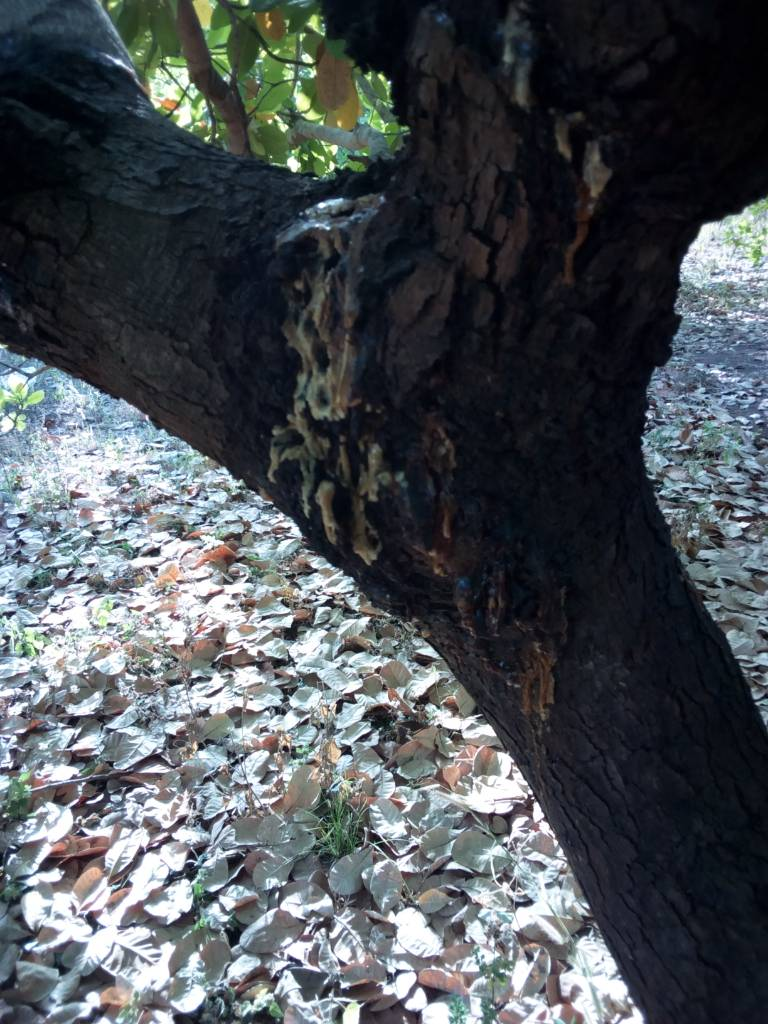Gommose: (221, 174, 640, 657)
